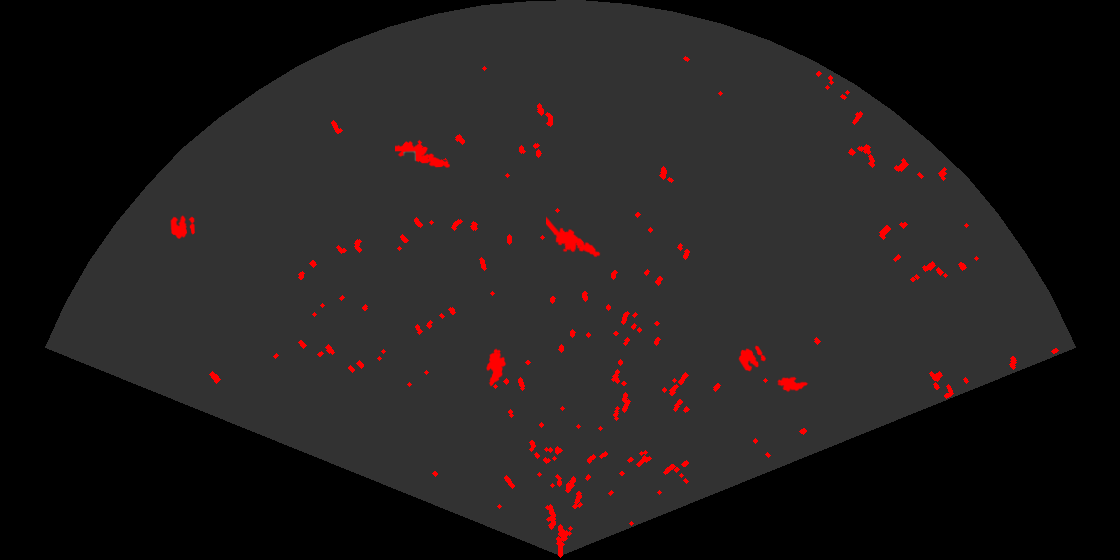AUV: (485, 347, 508, 388), (776, 375, 809, 393)
ball: (737, 344, 768, 373), (169, 214, 197, 240)
frogman: (546, 215, 602, 259), (395, 138, 450, 169)
